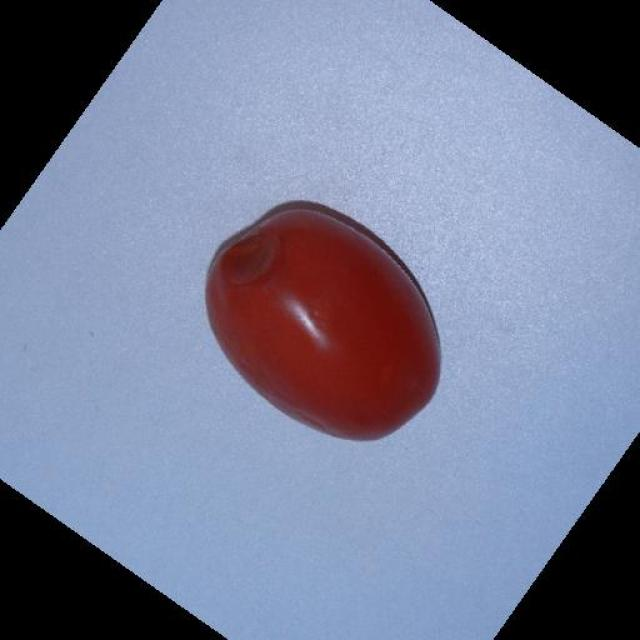Stale_tomato: (212, 237, 318, 341)
